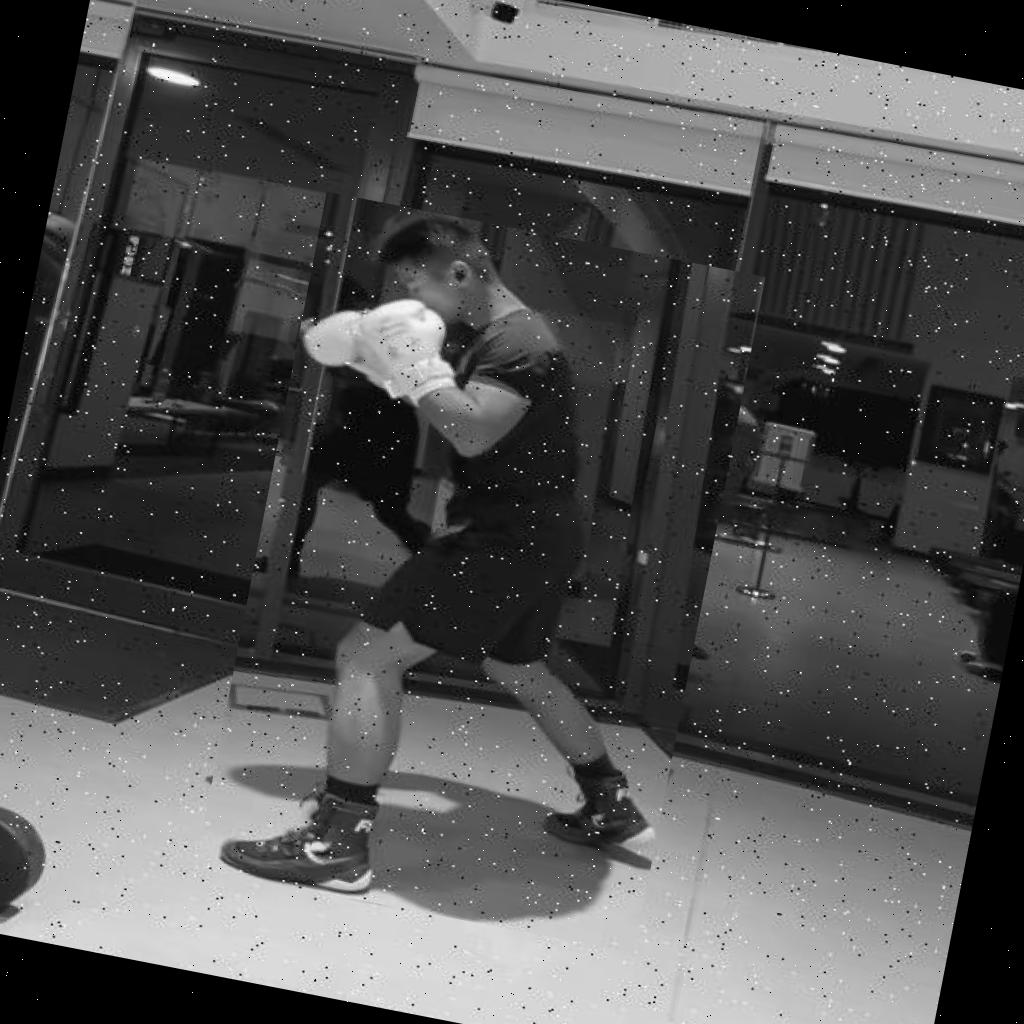no punch: (196, 192, 766, 954)
